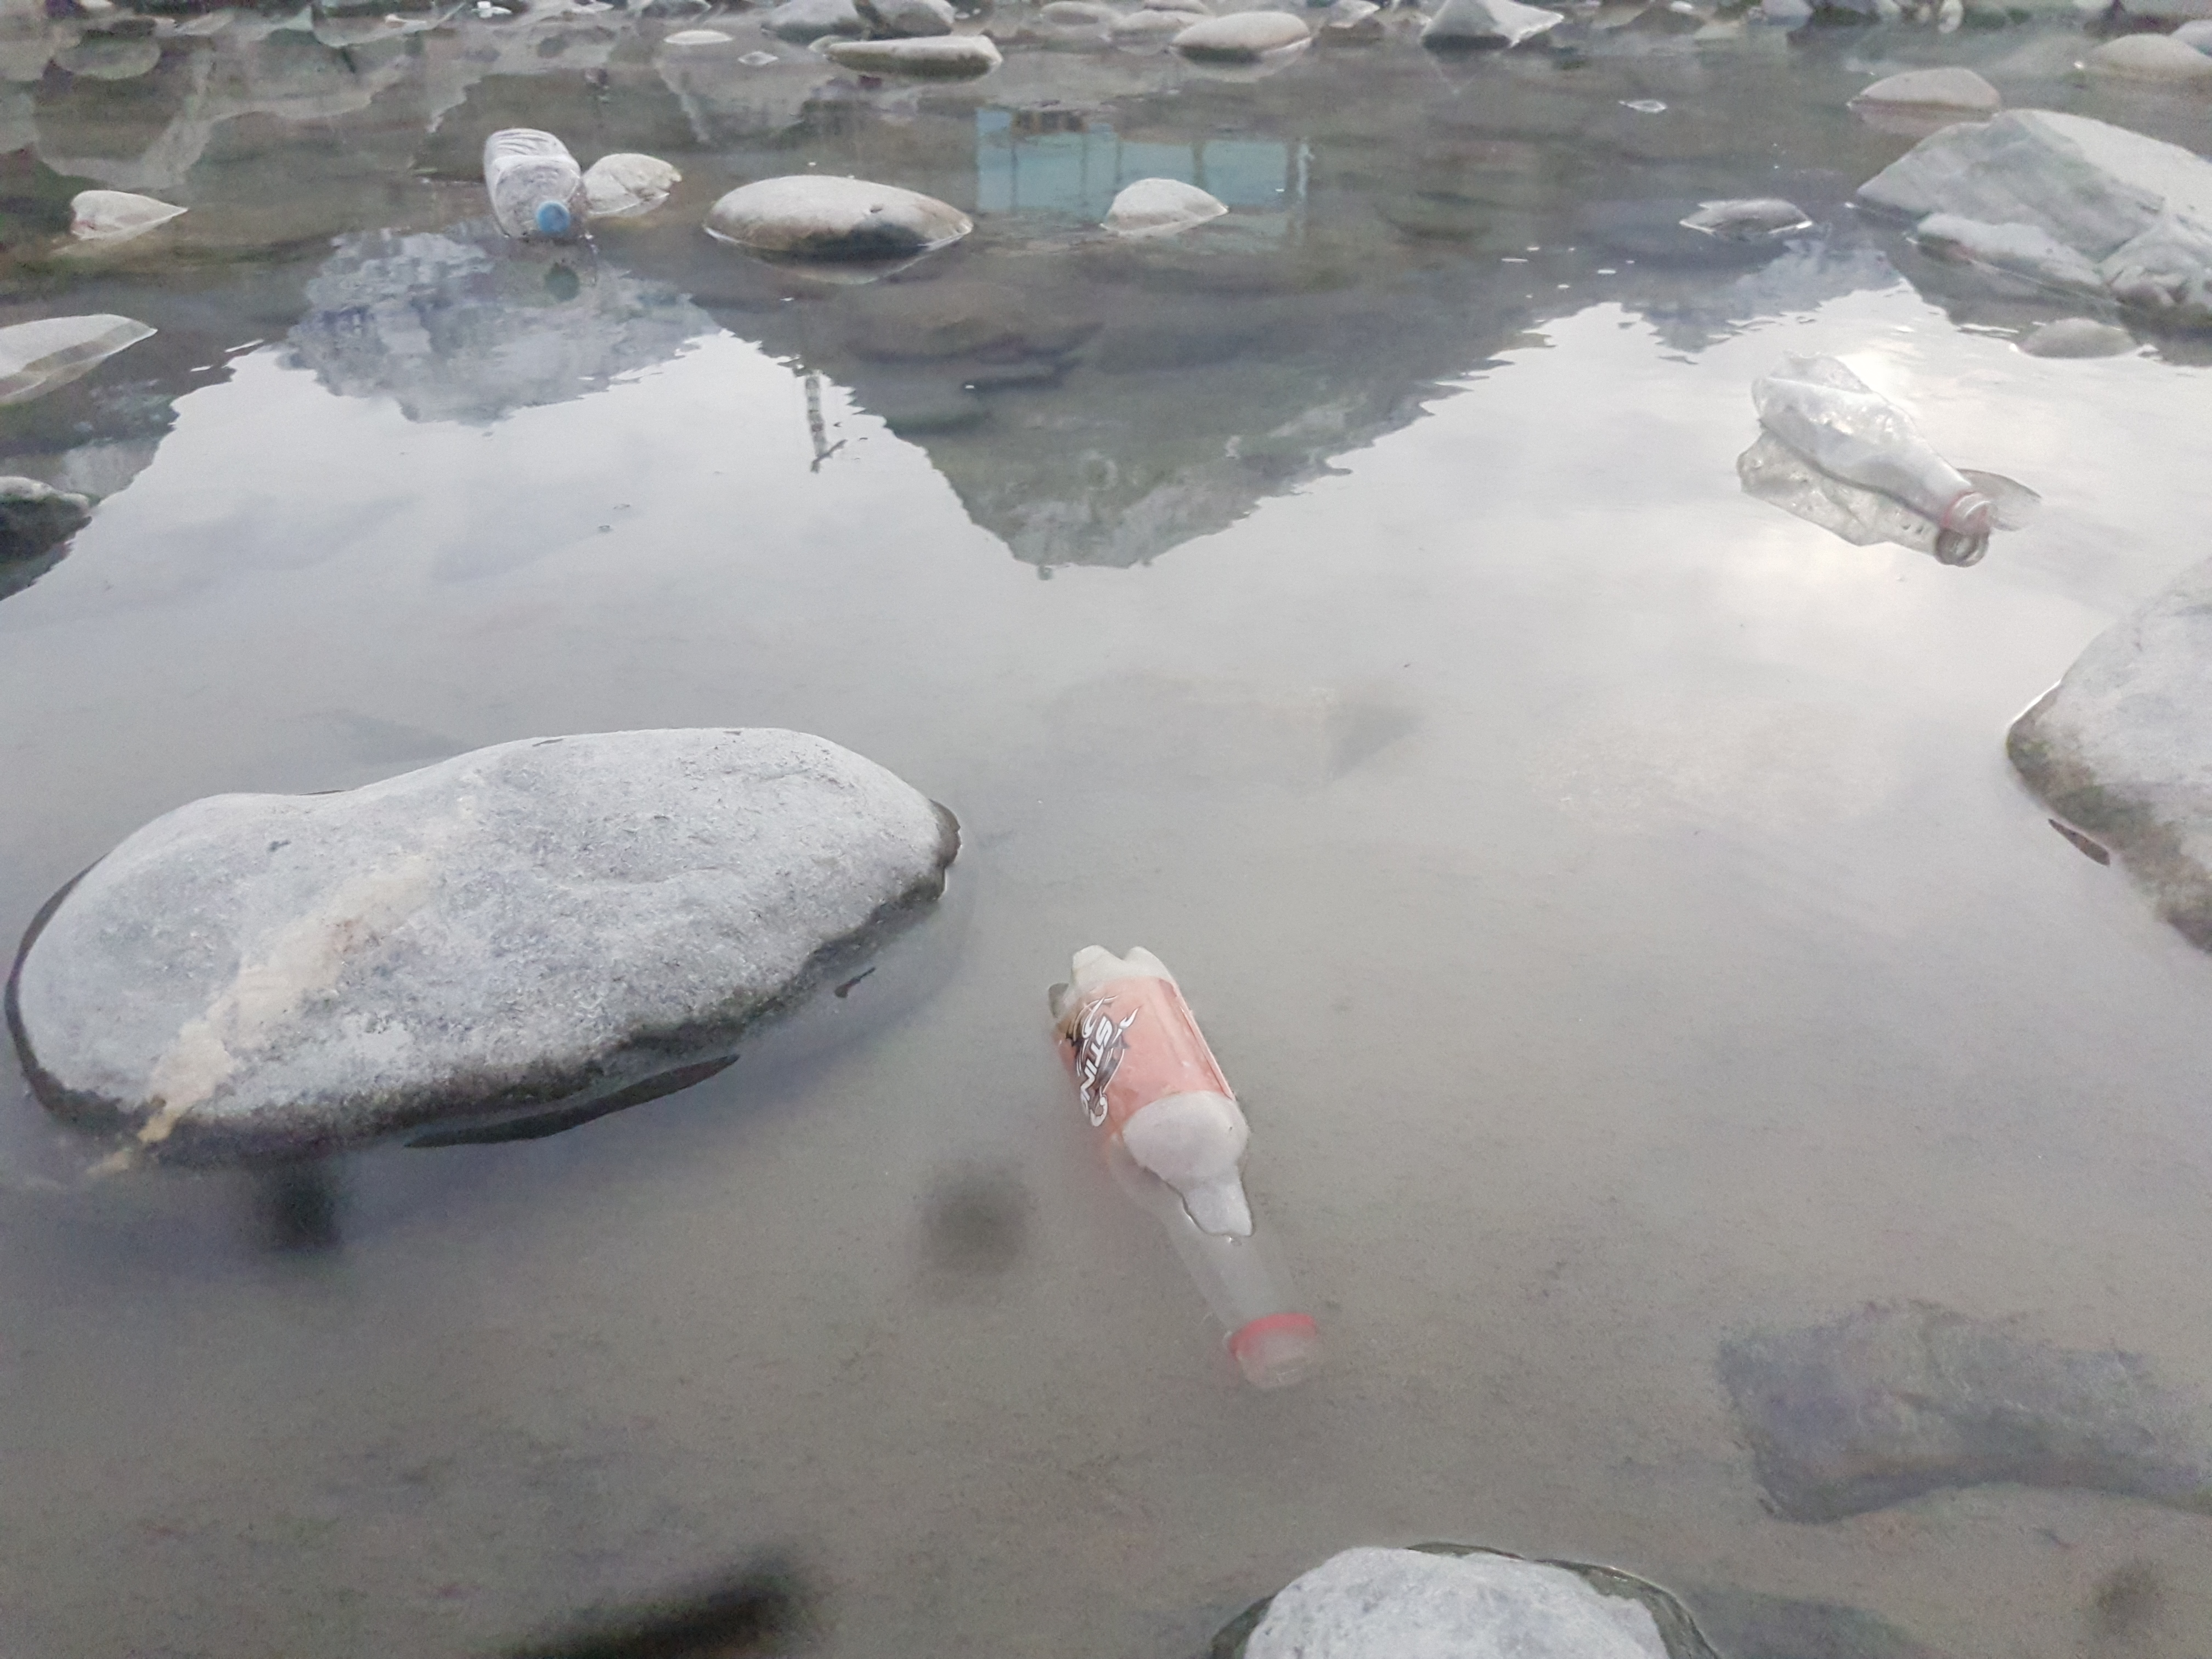Plastic Bottle: (1049, 943, 1327, 1391), (1750, 350, 1991, 535), (482, 125, 589, 237)
